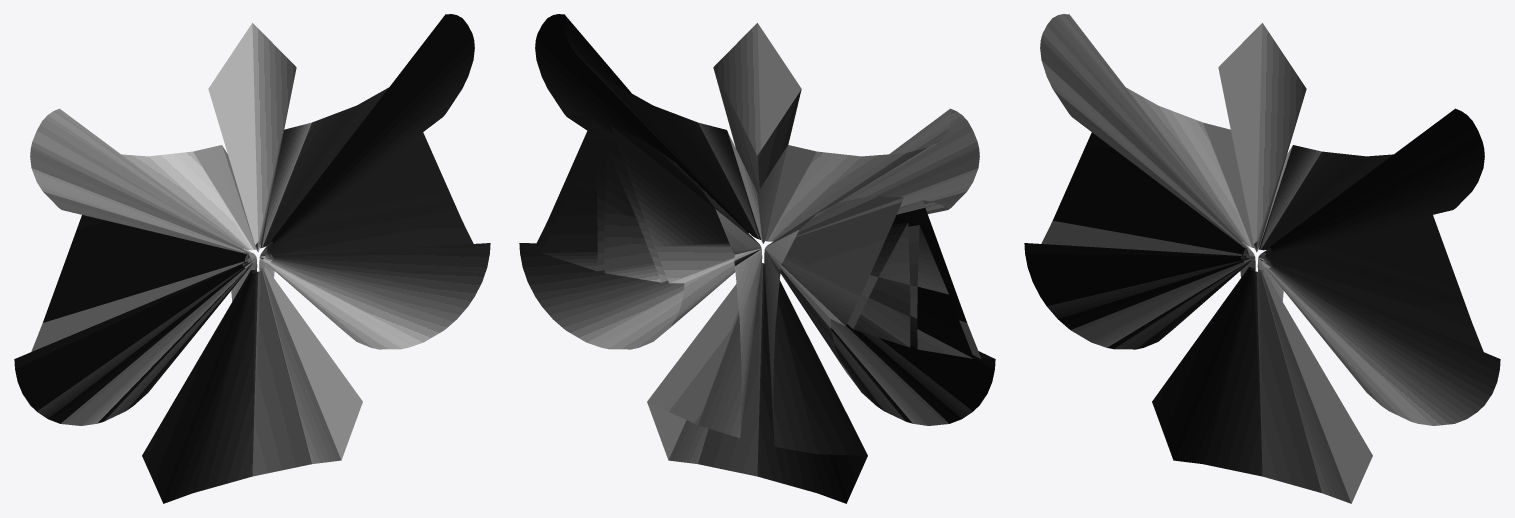
Rendered from eff_UnitLimitBreakIcon.fbx.
The picture shows the model from 3 angles, left to right: view 1: azimuth 30°, elevation 25°; view 2: azimuth 150°, elevation 25°; view 3: azimuth 330°, elevation 25°; orthographic projection.
Parts seen in each view (by area): view 1: eff_UnitLimitBreakIcon_msh; view 2: eff_UnitLimitBreakIcon_msh; view 3: eff_UnitLimitBreakIcon_msh.
Boxes of the visible parts, x1=… form: eff_UnitLimitBreakIcon_msh: x1=14, y1=14, x2=490, y2=503; eff_UnitLimitBreakIcon_msh: x1=519, y1=14, x2=995, y2=503; eff_UnitLimitBreakIcon_msh: x1=1024, y1=14, x2=1500, y2=503.
Bounding box in the file's own units: 47.72 × 44.03 × 1.
